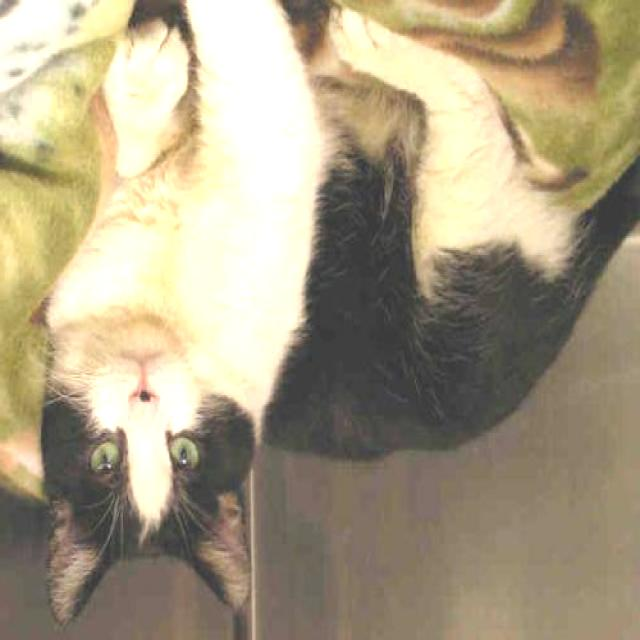Kucing: (15, 18, 602, 603)
